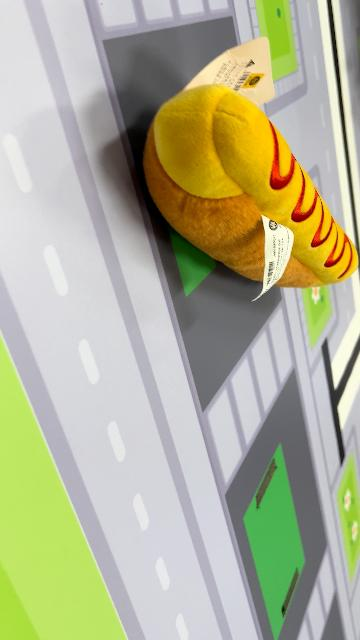hotdog: (142, 83, 358, 293)
